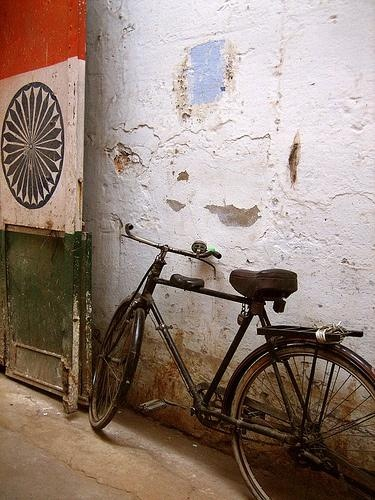bicycle: (89, 224, 375, 500)
